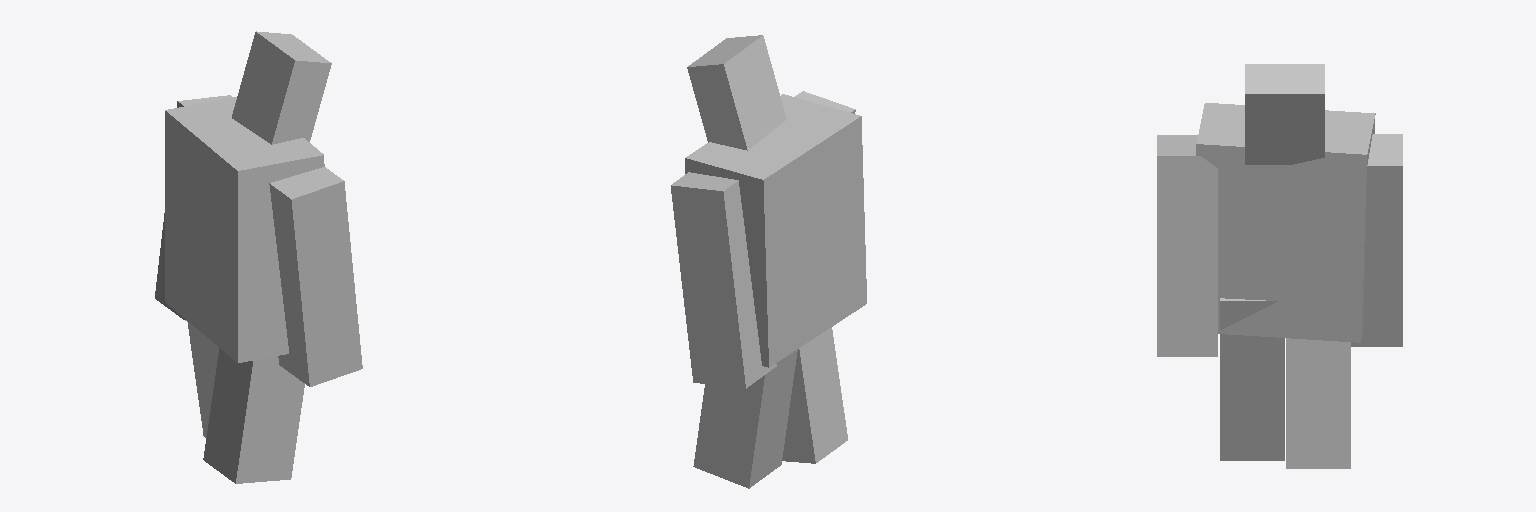
Rendered from walk_000002.obj.
The picture shows the model from 3 angles: view 1: azimuth 30°, elevation 25°; view 2: azimuth 150°, elevation 25°; view 3: azimuth 270°, elevation 25°; orthographic projection.
Parts seen in each view (by area): view 1: Cube, leg.002_Cube.006, leg.001_Cube.007, Cube.001_Cube.003, leg_Cube.001, leg.003_Cube.002; view 2: Cube, leg.003_Cube.002, leg_Cube.001, Cube.001_Cube.003, leg.001_Cube.007; view 3: Cube, leg.002_Cube.006, leg.001_Cube.007, leg_Cube.001, leg.003_Cube.002, Cube.001_Cube.003, Plane.002.
Part boxes in pixels (x1,y1,x2,y2): Cube: (165, 97, 324, 362); leg.002_Cube.006: (269, 167, 362, 386); leg.001_Cube.007: (203, 348, 304, 483); Cube.001_Cube.003: (232, 31, 331, 144); leg_Cube.001: (187, 321, 218, 437); leg.003_Cube.002: (155, 95, 232, 320); Cube: (685, 94, 866, 367); leg.003_Cube.002: (671, 172, 776, 388); leg_Cube.001: (693, 349, 797, 488); Cube.001_Cube.003: (687, 35, 786, 150); leg.001_Cube.007: (782, 327, 847, 463); Cube: (1196, 103, 1375, 342); leg.002_Cube.006: (1157, 135, 1217, 356); leg.001_Cube.007: (1220, 298, 1284, 460); leg_Cube.001: (1286, 338, 1350, 468); leg.003_Cube.002: (1351, 134, 1402, 346); Cube.001_Cube.003: (1245, 64, 1324, 164); Plane.002: (1260, 134, 1310, 158).
Bounding box in the file's own units: 1.9 × 6.3 × 3.47.